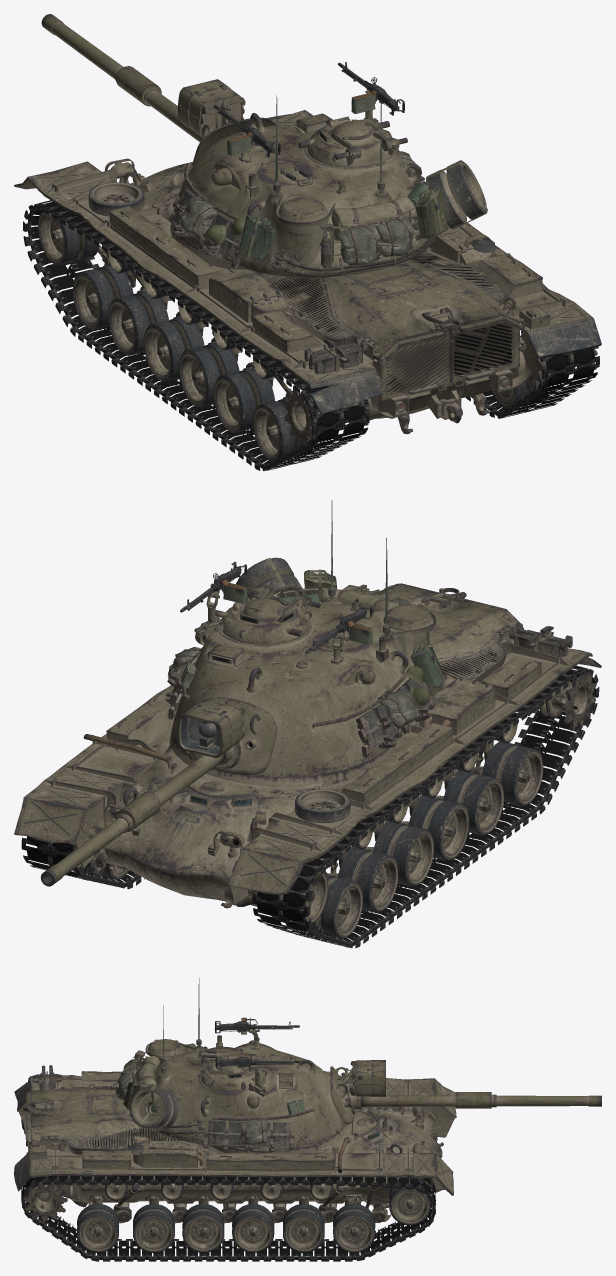
File: m48a5_patton.glb
The picture shows the model from 3 angles, top to bottom: view 1: azimuth 30°, elevation 25°; view 2: azimuth 150°, elevation 25°; view 3: azimuth 270°, elevation 25°; orthographic projection. The views are drawn at different scales.
Parts seen in each view (by area): view 1: Hull_5, Turret_01_4, exportChassL1_Shape_2, track_L_Shape_0, gun_01_Shape_6, track_R_Shape_1, exportChassR1_Shape_3; view 2: Hull_5, Turret_01_4, exportChassL1_Shape_2, track_L_Shape_0, gun_01_Shape_6, track_R_Shape_1; view 3: Hull_5, Turret_01_4, exportChassR1_Shape_3, track_R_Shape_1, gun_01_Shape_6.
Part boxes in pixels (x1,y1,x2,y2): Hull_5: [14, 110, 601, 434]; Turret_01_4: [170, 62, 487, 277]; exportChassL1_Shape_2: [38, 206, 369, 461]; track_L_Shape_0: [23, 200, 369, 470]; gun_01_Shape_6: [41, 14, 275, 166]; track_R_Shape_1: [465, 329, 599, 418]; exportChassR1_Shape_3: [491, 330, 597, 408]; Hull_5: [14, 583, 601, 908]; Turret_01_4: [166, 500, 447, 777]; exportChassL1_Shape_2: [263, 670, 596, 938]; track_L_Shape_0: [252, 665, 599, 948]; gun_01_Shape_6: [40, 697, 277, 886]; track_R_Shape_1: [21, 836, 144, 889]; Hull_5: [14, 1065, 456, 1221]; Turret_01_4: [115, 978, 344, 1152]; exportChassR1_Shape_3: [23, 1175, 431, 1252]; track_R_Shape_1: [21, 1175, 435, 1261]; gun_01_Shape_6: [330, 1060, 601, 1124].
Size of the model in its own units: 3.72 by 3.72 by 9.2.
7 materials, 7 textured.
